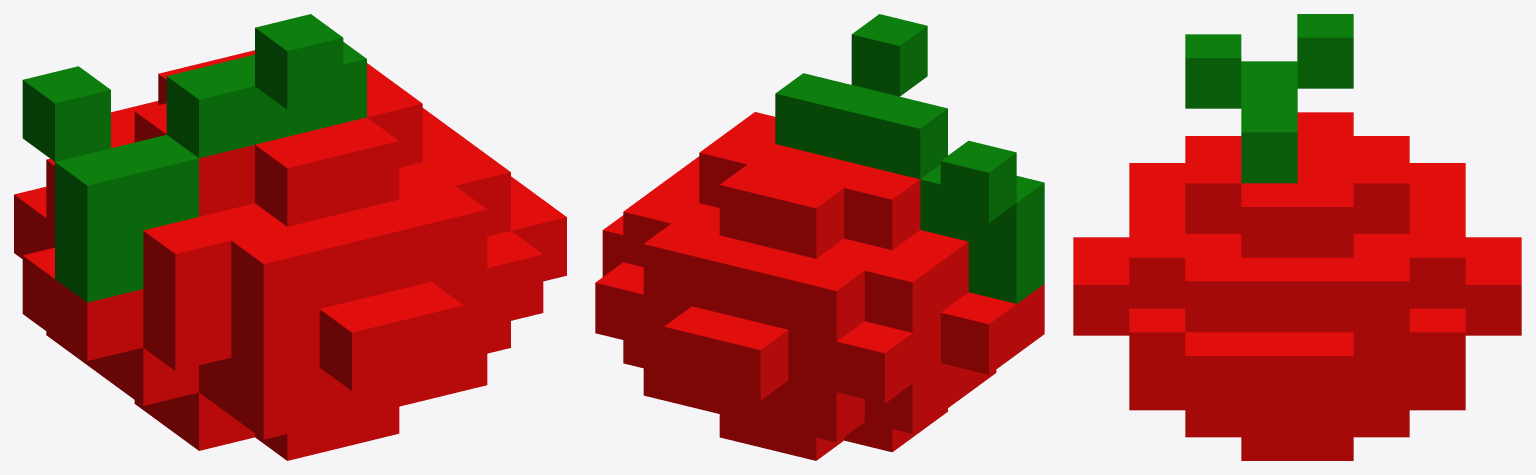
File: plant_tomato_f4.vox.obj
The picture shows the model from 3 angles, left to right: view 1: azimuth 30°, elevation 25°; view 2: azimuth 150°, elevation 25°; view 3: azimuth 270°, elevation 25°; orthographic projection. The views are drawn at different scales.
Size of the model in its own units: 0.8 by 0.7 by 0.8.
1 material, 1 textured.
